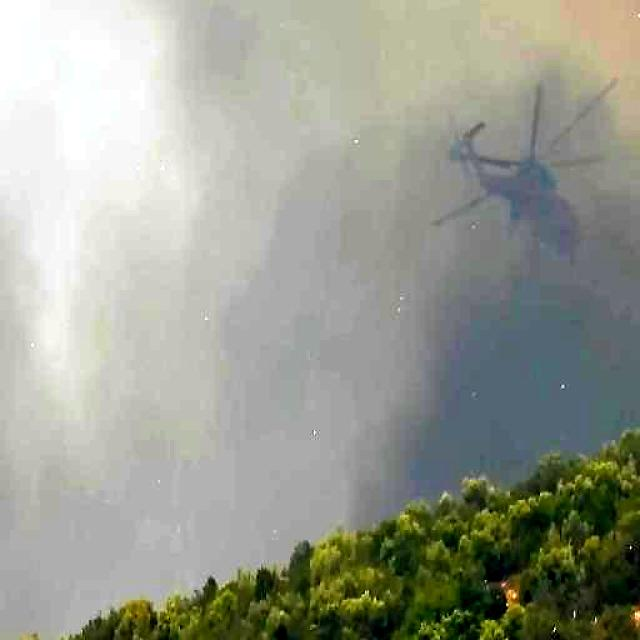drone: (435, 76, 625, 270)
